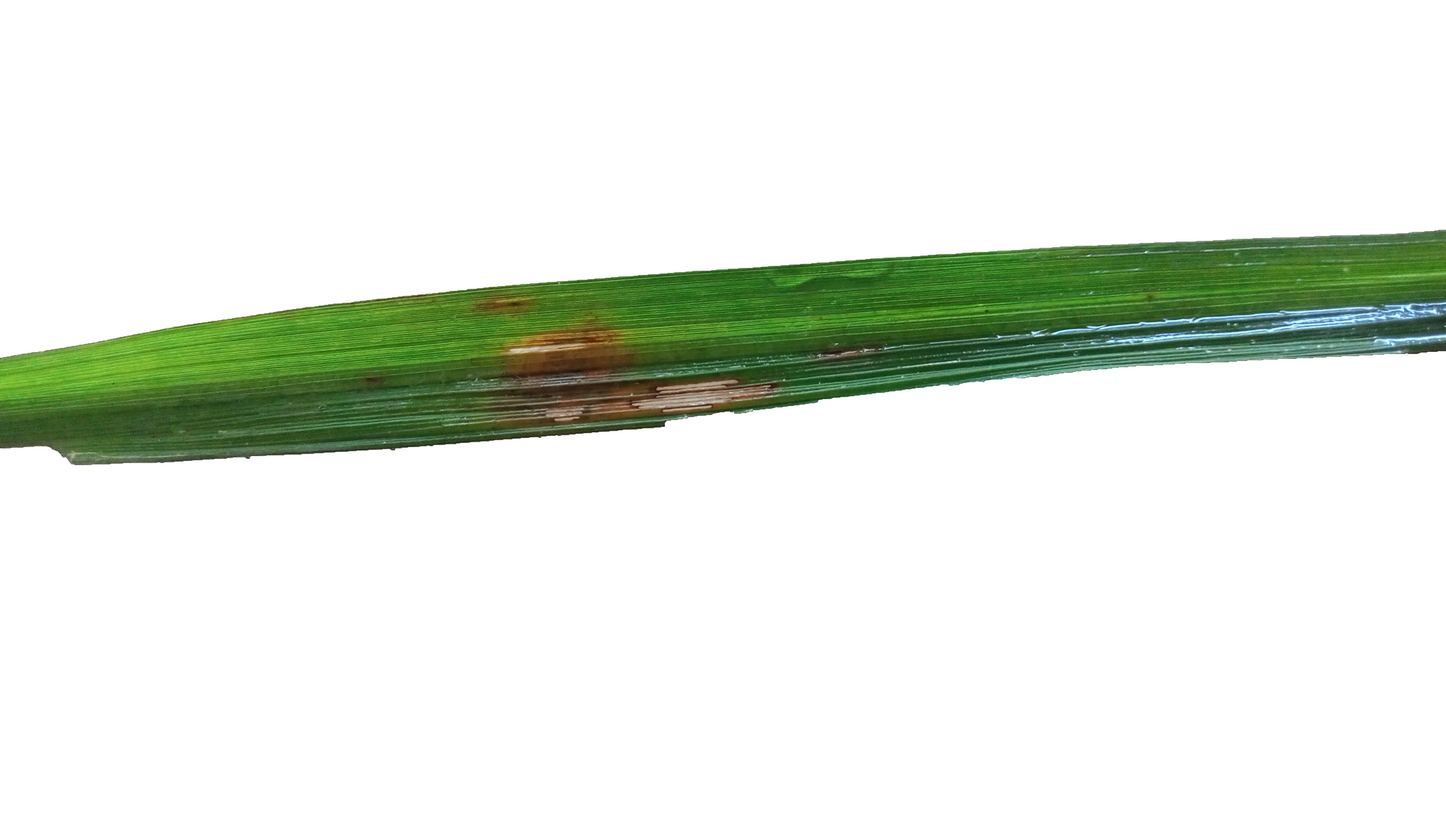Blight: (497, 325, 645, 433), (631, 349, 770, 420), (461, 292, 565, 323), (815, 337, 892, 373)
